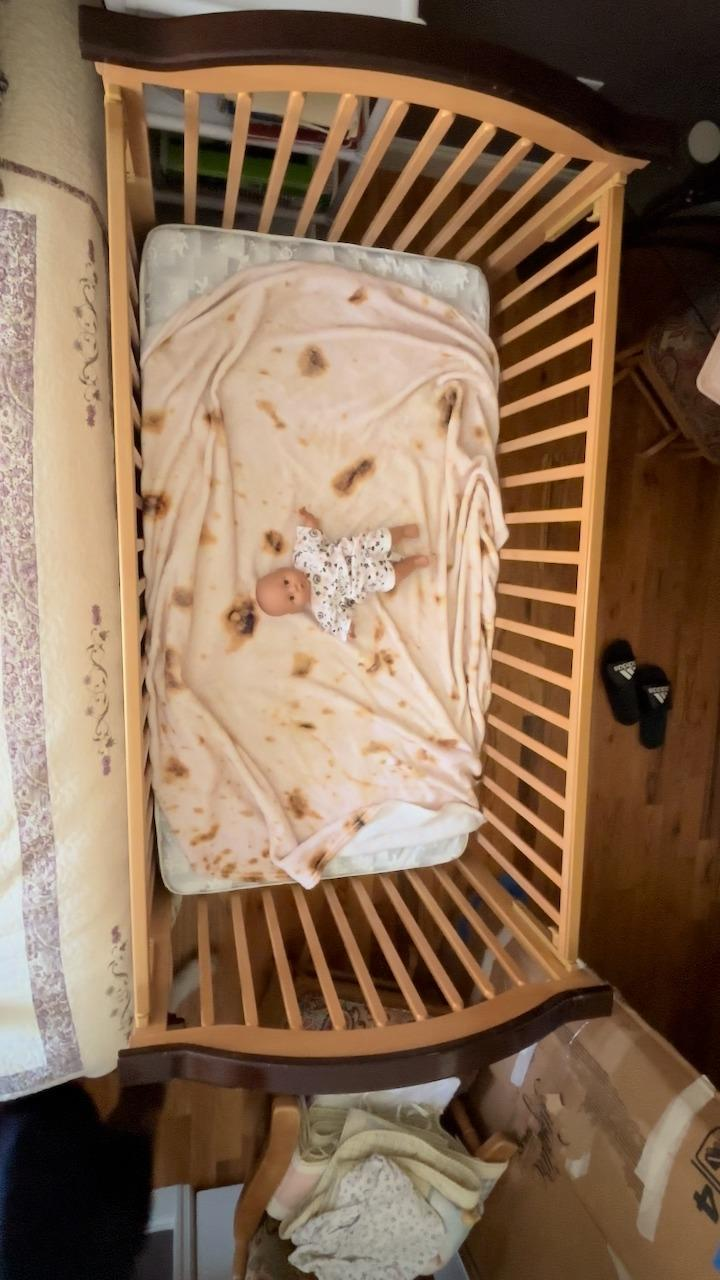baby: (249, 504, 434, 648)
